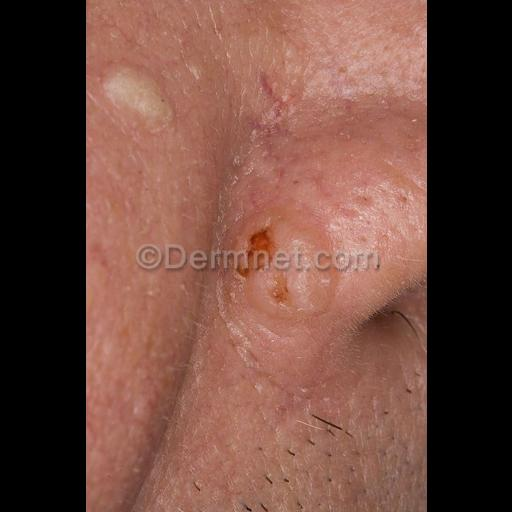Skin_Lesion: (214, 212, 340, 320), (96, 47, 178, 127)
